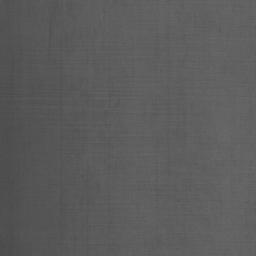Waist folding: (0, 82, 256, 217), (130, 36, 256, 66), (210, 3, 256, 10), (207, 231, 256, 236), (89, 242, 119, 247), (96, 199, 121, 204)
